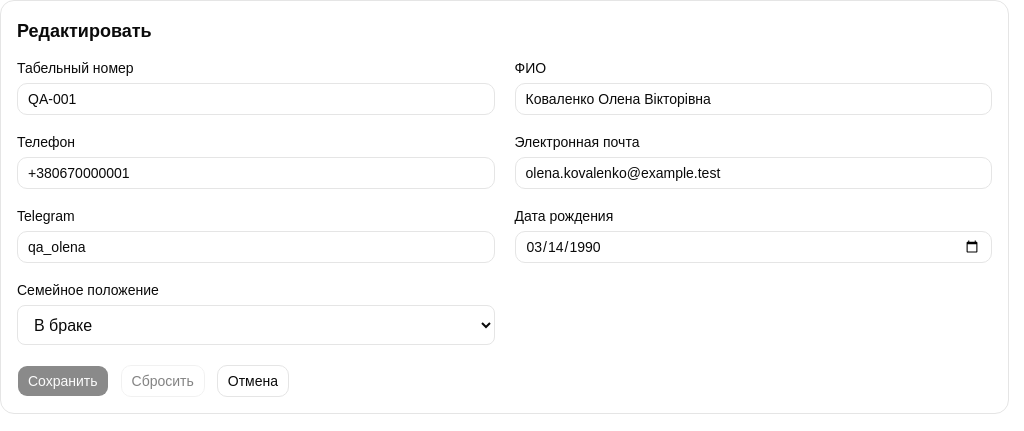
it: resets a changed form and disables reset again
Check: the button "Сбросить" is disabled, box x1=121 y1=365 x2=205 y2=397
Replace the text in the field labelled "ФИО" with "New draft" at x=753, y=99, box x1=514 y1=83 x2=992 y2=115
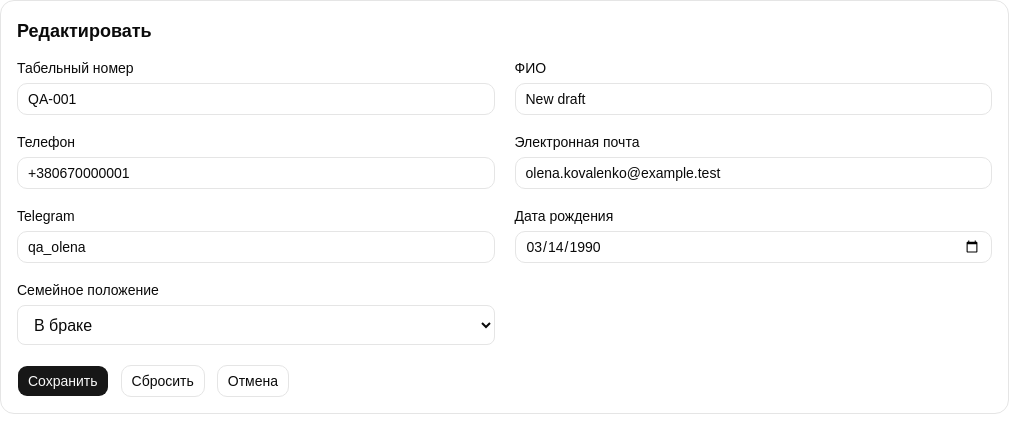
Check: the button "Сбросить" is enabled
Click the button "Сбросить" at x=163, y=381, box x1=121 y1=365 x2=205 y2=397
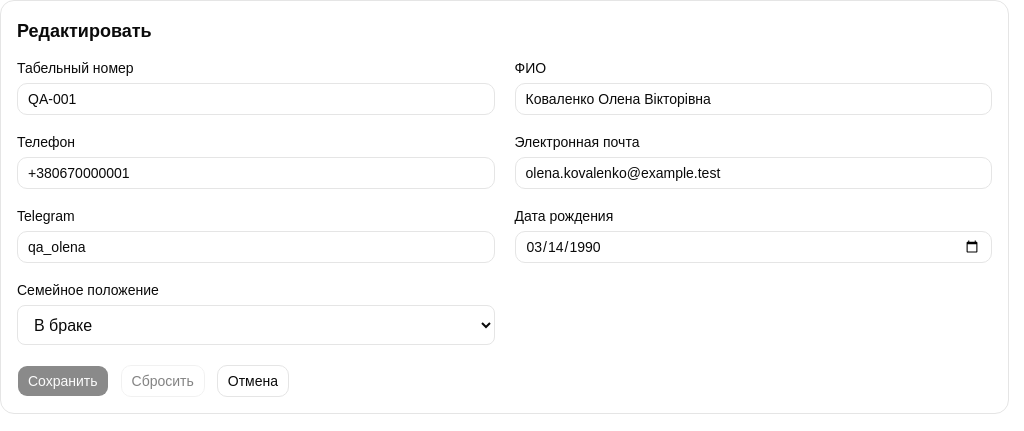
Check: the field labelled "ФИО" holds "Коваленко Олена Вікторівна", box x1=514 y1=83 x2=992 y2=115
Check: the button "Сбросить" is disabled, box x1=121 y1=365 x2=205 y2=397
Check: the button "Сохранить" is disabled, box x1=17 y1=365 x2=109 y2=397
